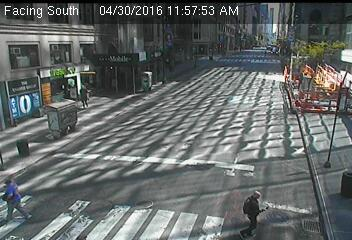neg: (177, 185, 208, 226), (270, 145, 301, 186), (122, 176, 152, 216), (13, 32, 38, 66), (36, 102, 61, 135), (106, 128, 130, 161), (166, 56, 189, 87), (162, 119, 185, 150), (117, 61, 137, 88), (224, 107, 244, 134), (290, 94, 308, 119), (250, 53, 264, 71), (212, 61, 223, 76), (288, 69, 299, 84)
pos: (3, 173, 40, 224), (238, 188, 275, 236), (74, 81, 94, 108)
